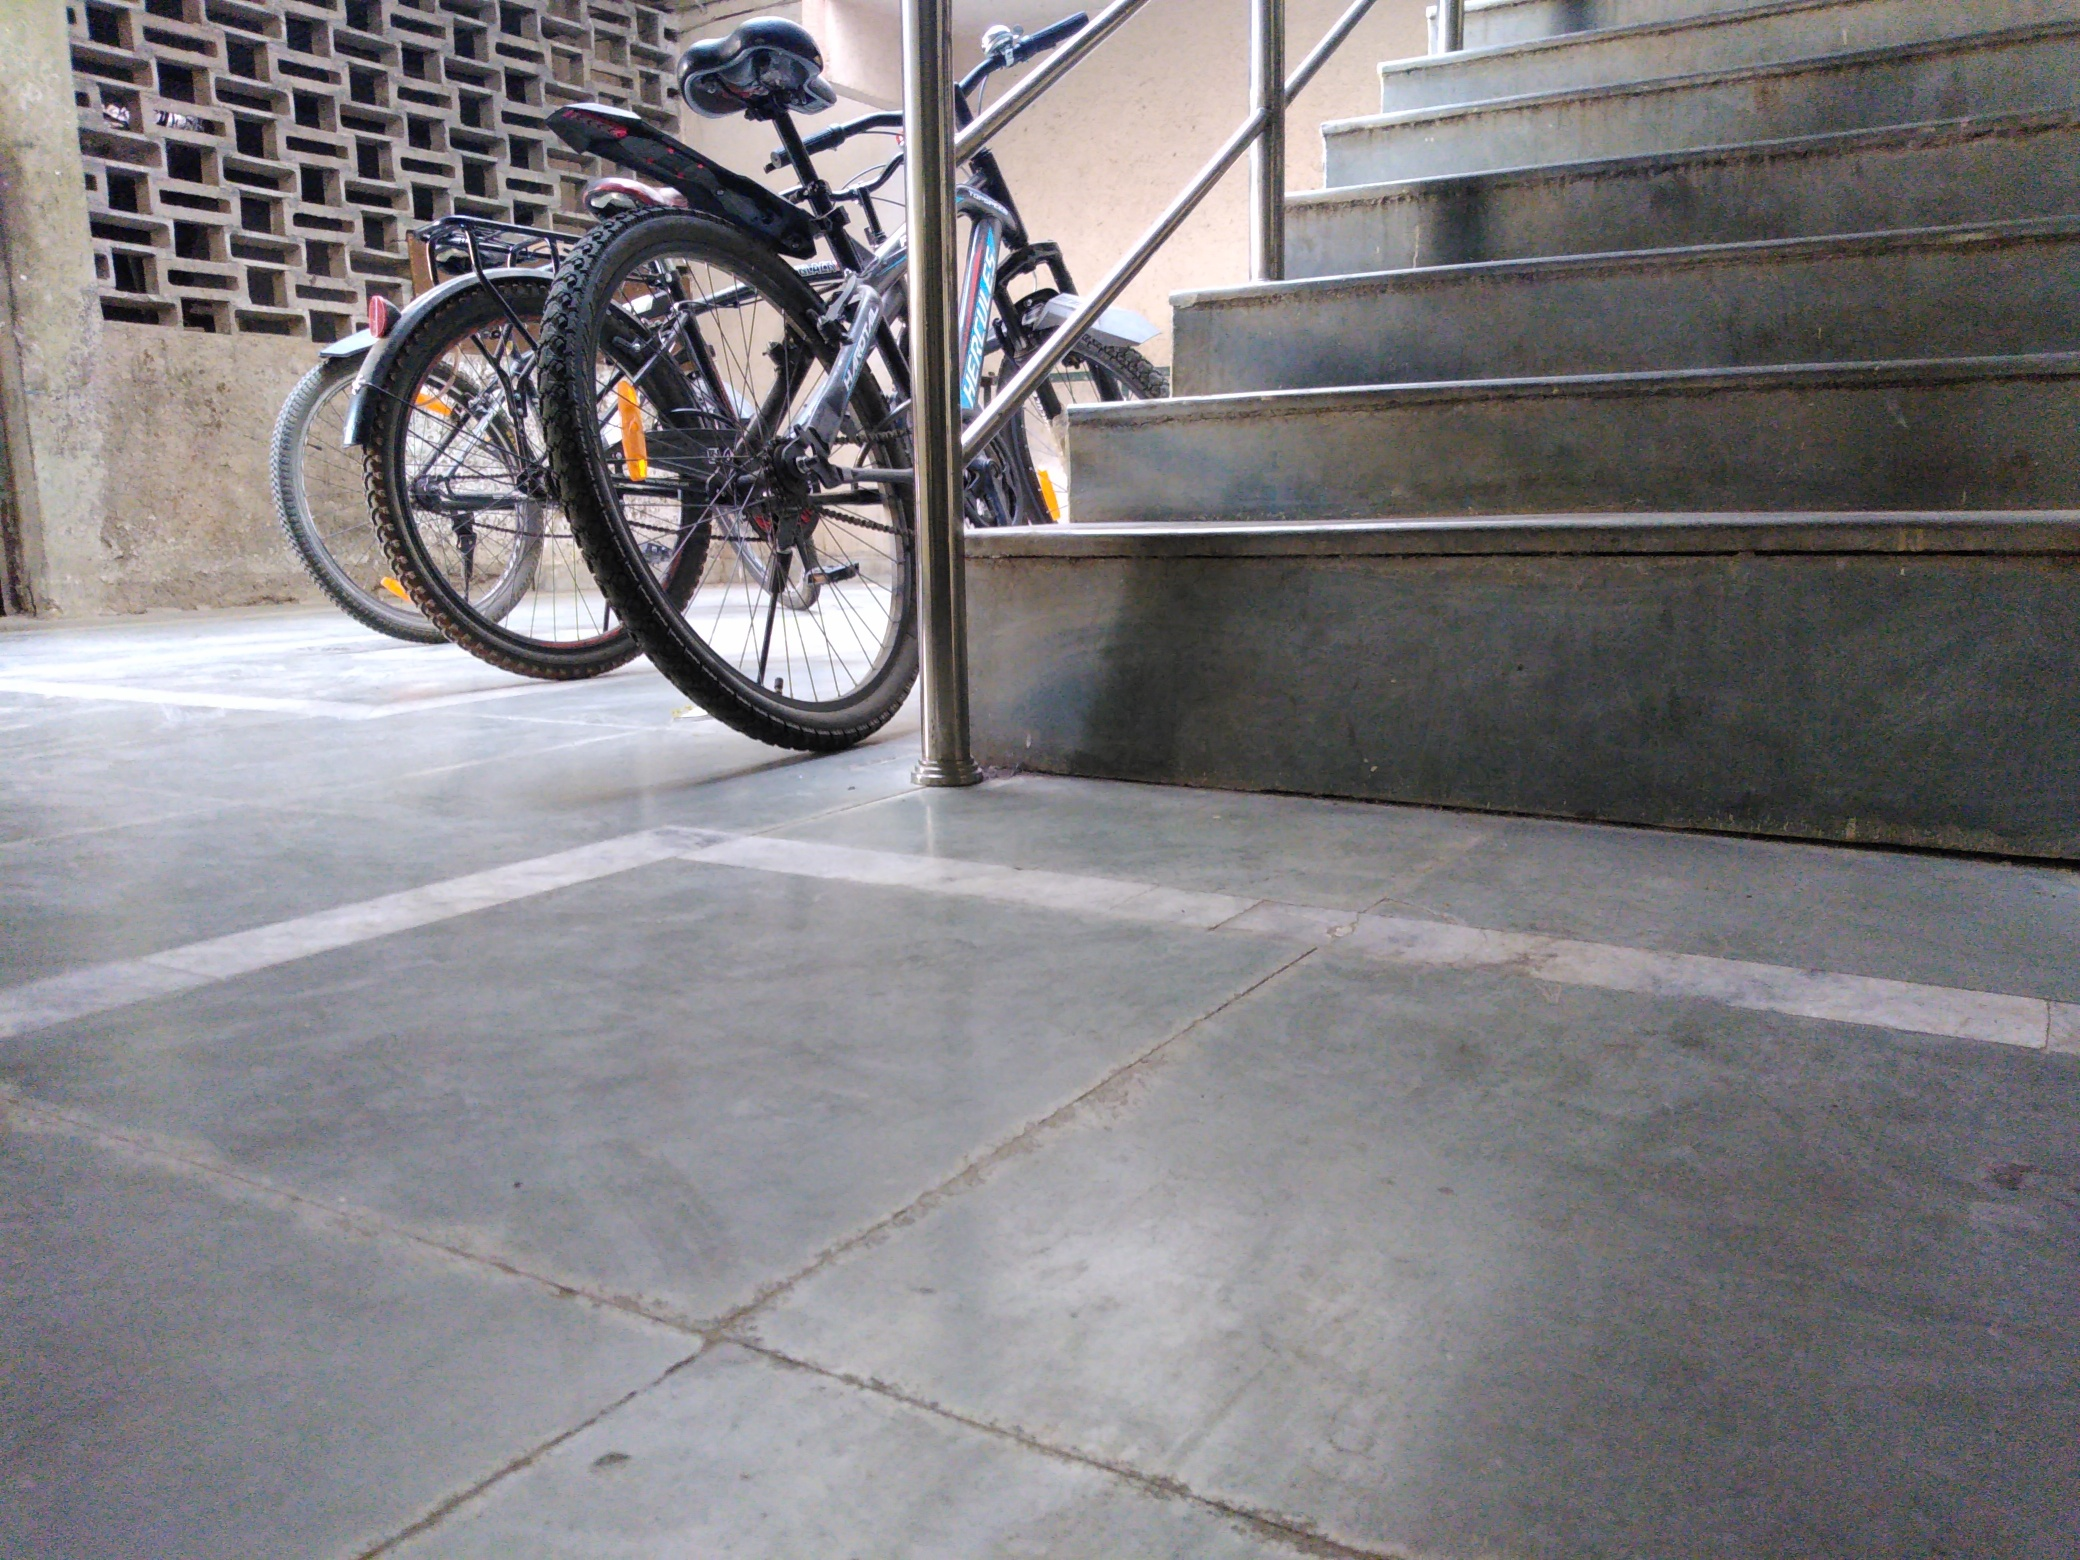stairs_up: (1066, 62, 2080, 855)
